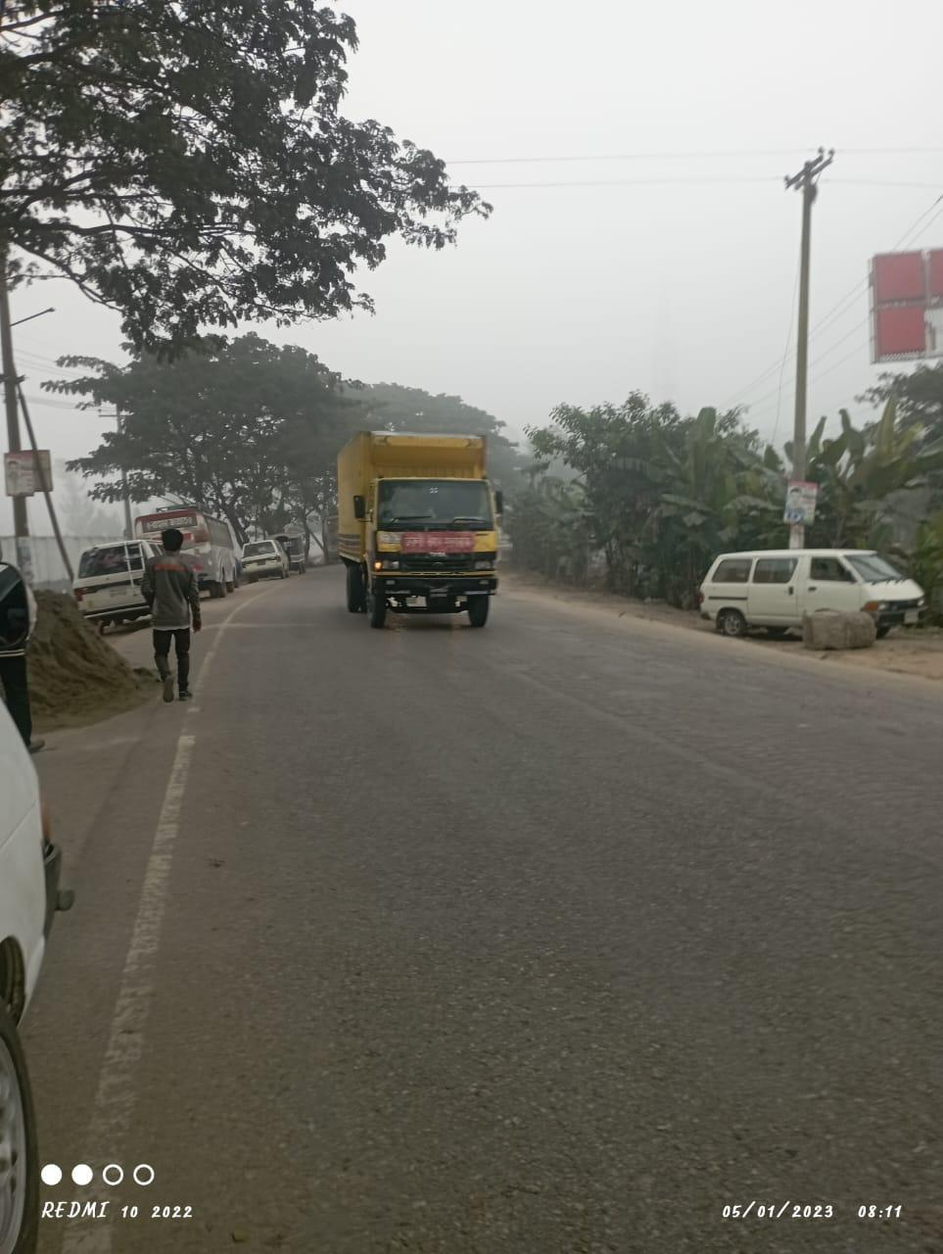Bus: (135, 505, 248, 603)
Car: (693, 534, 929, 648), (69, 534, 174, 632), (235, 532, 288, 588)
Truck: (326, 416, 533, 640)
